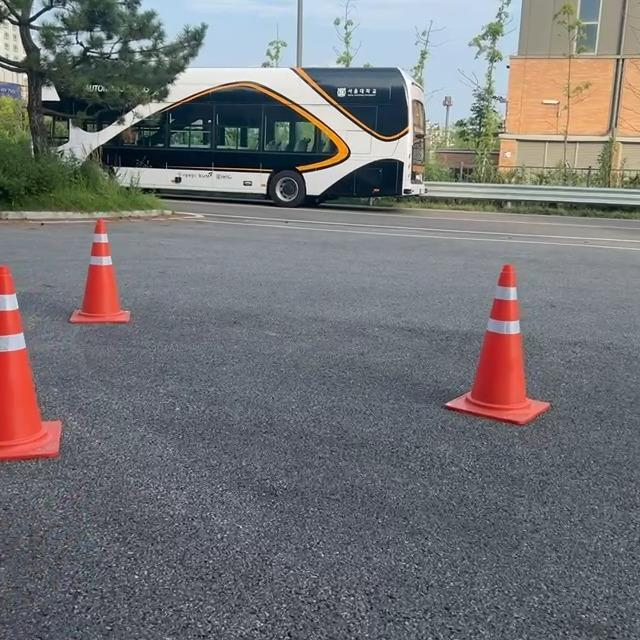fallen_object: (62, 202, 187, 413), (0, 288, 104, 471)
